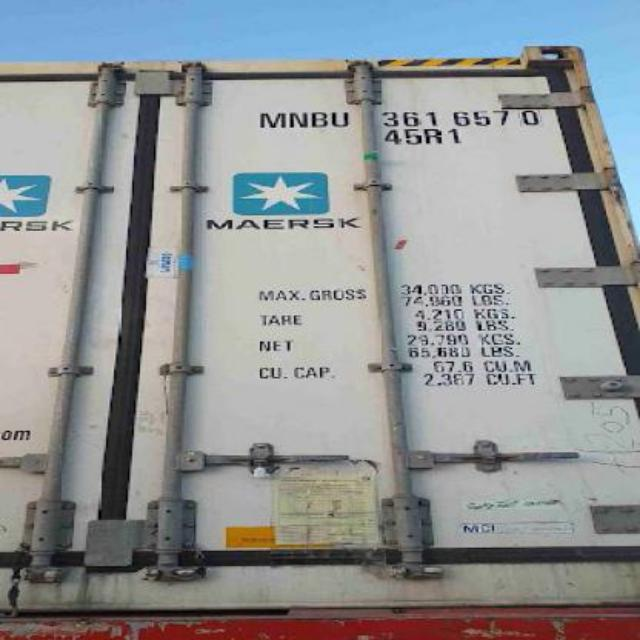0: (518, 106, 546, 130)
1: (422, 104, 440, 126)
3: (380, 106, 398, 128)
5: (474, 105, 492, 128)
6: (401, 105, 422, 128), (450, 108, 474, 128)
7: (492, 105, 510, 128)
B: (306, 107, 328, 131)
M: (252, 105, 288, 131)
N: (286, 108, 310, 132)
U: (324, 104, 354, 132)
